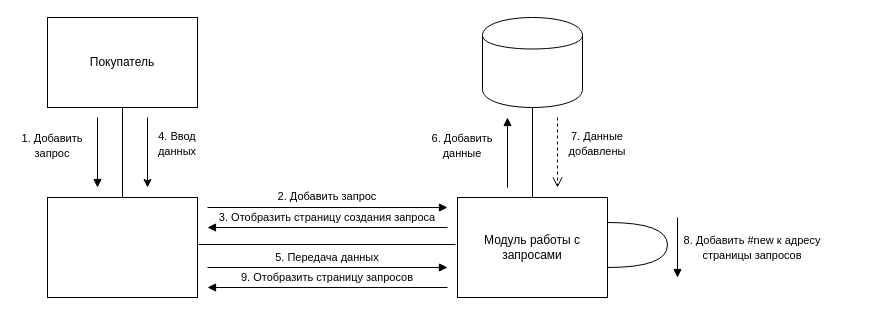
The diagram is 874 pixels wide and 315 high, and some of its shapes have lost their labels. The centre of each missing label's shape, as x and y in pixels:
"БД" goes at [532,62].
"Графический интерфейс" goes at [122,247].
